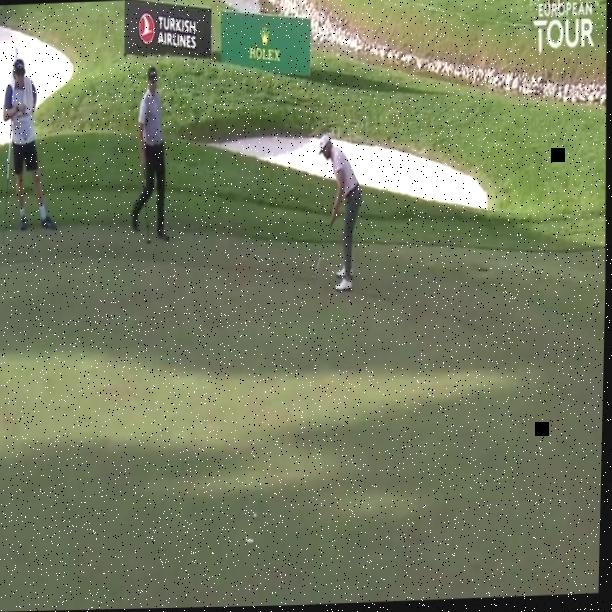GolfBall: (251, 504, 262, 525)
